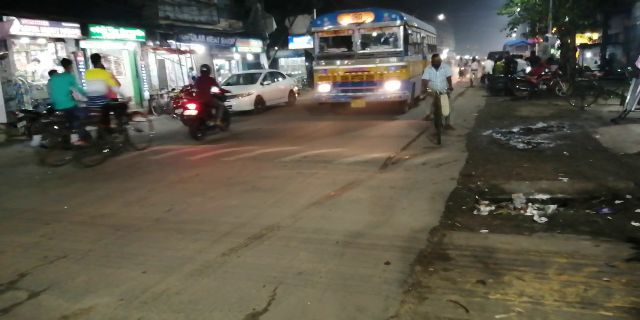Bus: (308, 13, 429, 114)
Car: (225, 67, 299, 115)
Cycle: (65, 59, 154, 172), (415, 41, 460, 150)
Motorbike: (176, 63, 233, 143)
